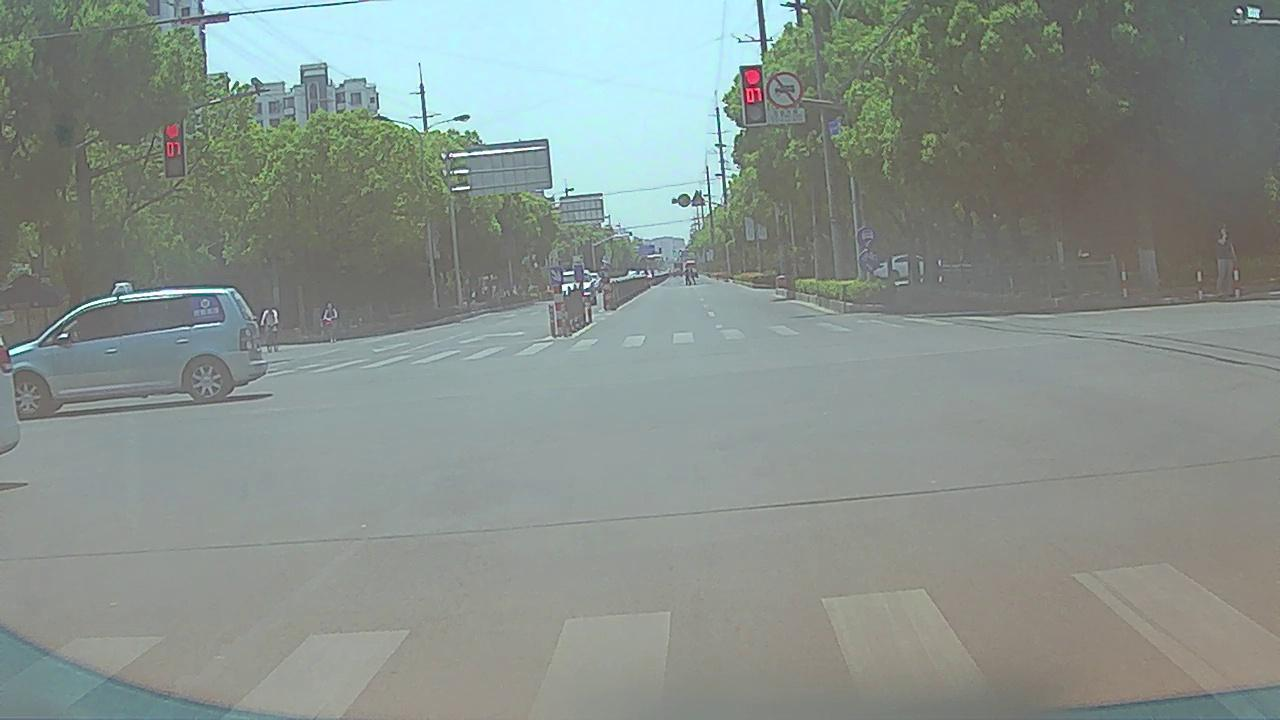traffic_light: (741, 67, 767, 123), (164, 123, 184, 181)
